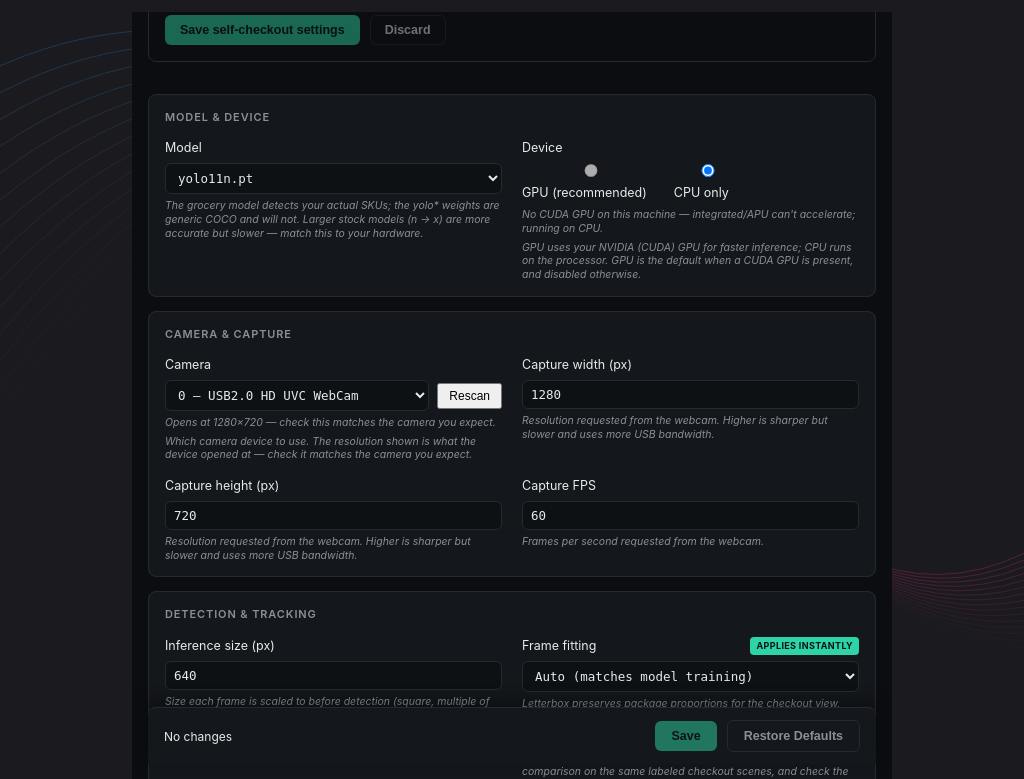
Test: AdminPanel › names each camera in a dropdown instead of showing a bare index
(page scrolled)
Expected: the text with test id "camera-resolution" shows "1280×720", [165,416,502,430]
Select "1 — Logitech StreamCam" in the dropdown with test id "camera-select": (297, 396) [165,380,429,411]
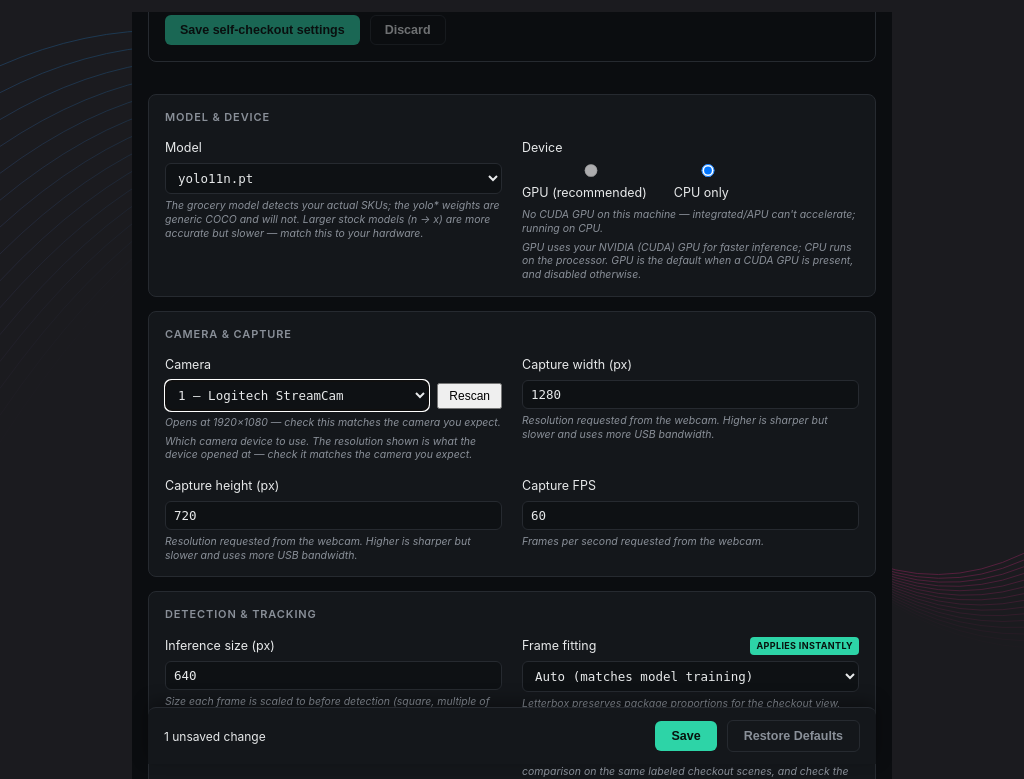
Expected: the text with test id "camera-resolution" shows "1920×1080", [165,416,502,430]
